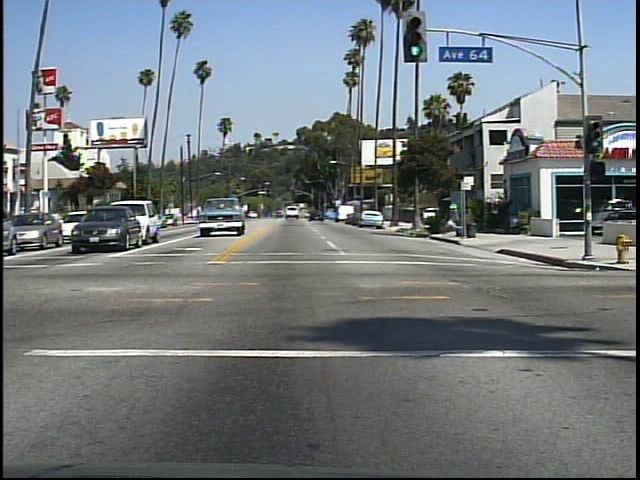person: (443, 198, 466, 240)
